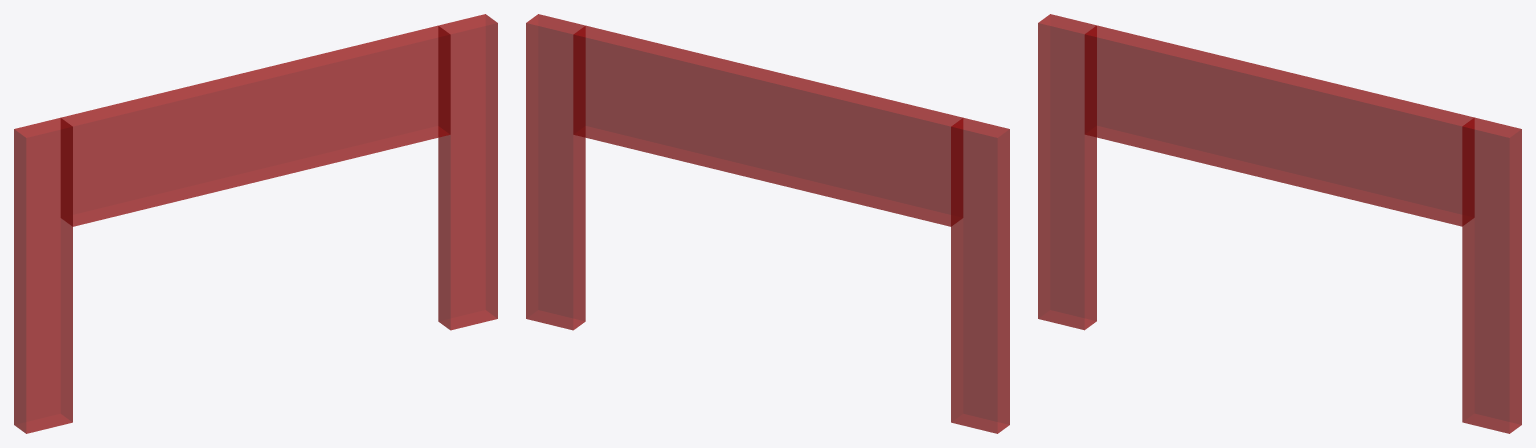
Rendered from SM_Bld_ShopFront_08_Collision.fbx.
3 views of the same model, side by side, from view 1: azimuth 30°, elevation 25°; view 2: azimuth 150°, elevation 25°; view 3: azimuth 330°, elevation 25° (orthographic).
Visible parts, largest first — view 1: SM_Bld_ShopFront_08_Collision; view 2: SM_Bld_ShopFront_08_Collision; view 3: SM_Bld_ShopFront_08_Collision.
Part boxes in pixels (x1,y1,x2,y2): SM_Bld_ShopFront_08_Collision: (14, 14, 497, 433); SM_Bld_ShopFront_08_Collision: (526, 14, 1009, 433); SM_Bld_ShopFront_08_Collision: (1038, 14, 1521, 433).
Size of the model in its own units: 500 by 300 by 22.5.
